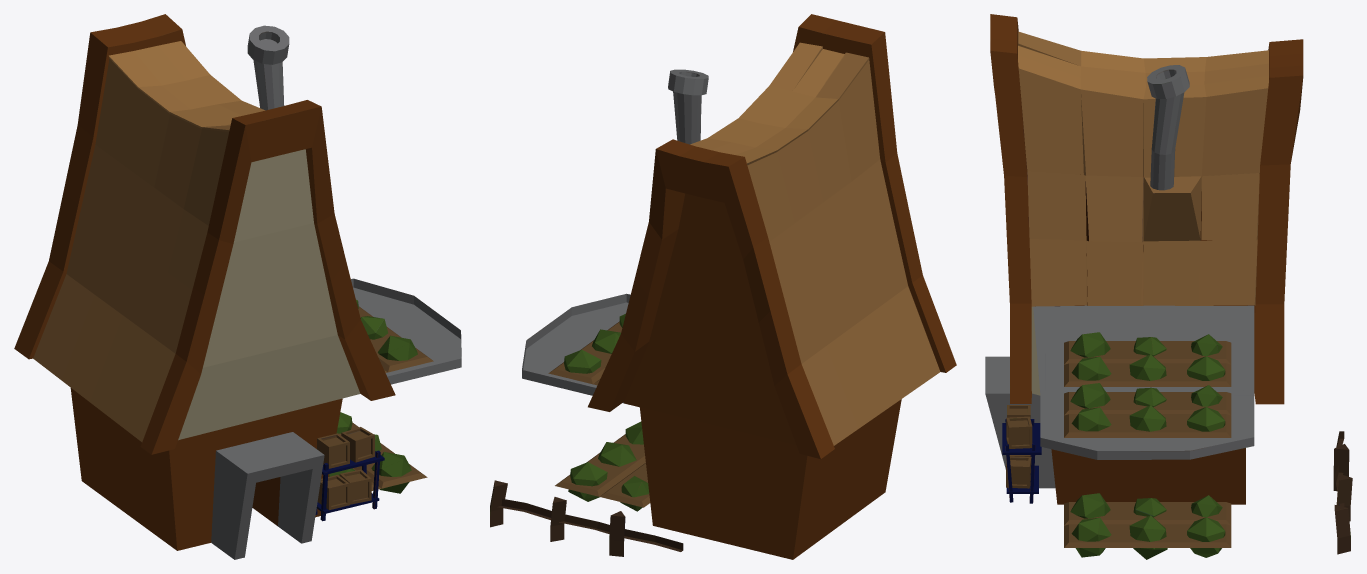
3 renders of one model, left to right at view 1: azimuth 30°, elevation 25°; view 2: azimuth 150°, elevation 25°; view 3: azimuth 270°, elevation 25°, orthographic. The views are drawn at different scales.
Parts seen in each view (by area): view 1: 柱体.008; view 2: 柱体.008; view 3: 柱体.008.
Part boxes in pixels (box(x1,y1,x2,y2)): 柱体.008: box(14, 14, 461, 559); 柱体.008: box(490, 14, 956, 559); 柱体.008: box(985, 14, 1352, 559).
Size of the model in its own units: 209 by 257 by 191.
